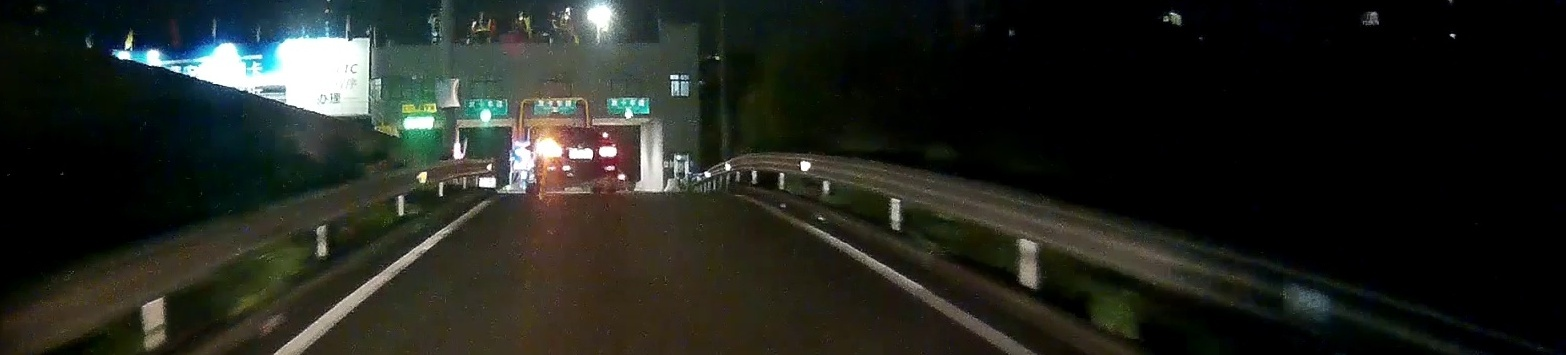L_light: (538, 140, 563, 159)
R_light: (598, 138, 618, 159)
T_light: (571, 129, 587, 133)
night-left: (535, 127, 619, 195)
